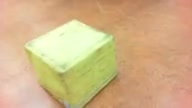cube: (24, 18, 119, 108)
